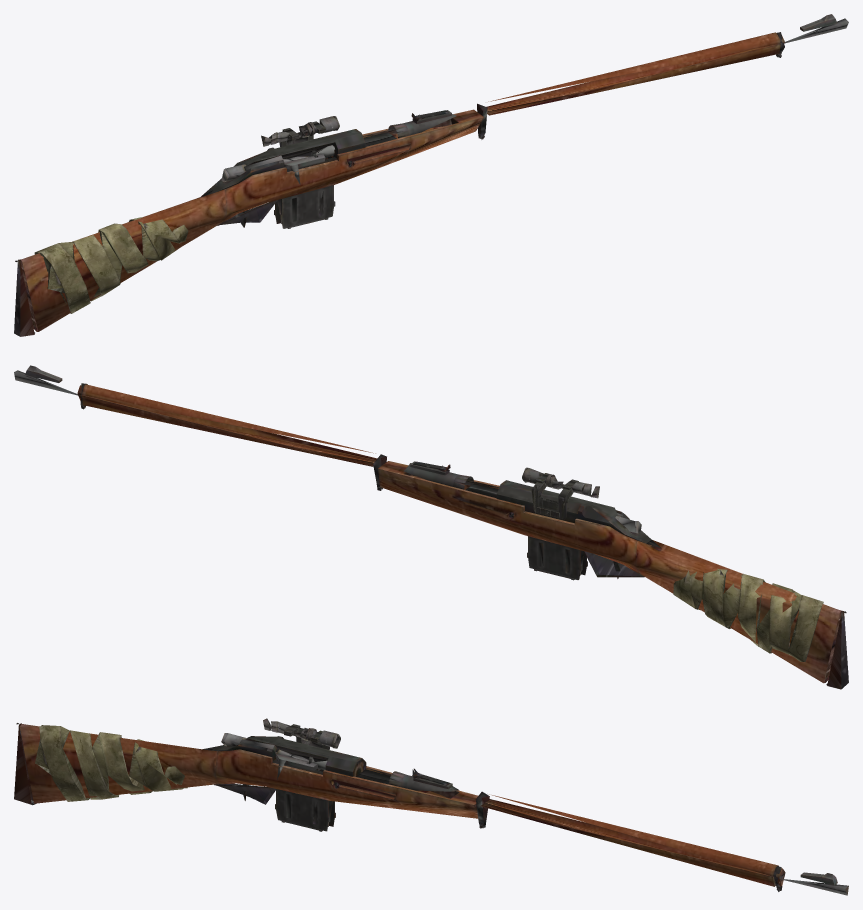
File: rifle_lo.glb
3 views of the same model, one above another, from view 1: azimuth 30°, elevation 25°; view 2: azimuth 150°, elevation 25°; view 3: azimuth 330°, elevation 25° (orthographic).
Visible parts, largest first — view 1: bolt_action_rifle_7_62, bolt_action_rifle_7_62_wrap, bolt_action_rifle_7_62_scope, bolt_action_rifle_7_62_bolt_a; view 2: bolt_action_rifle_7_62, bolt_action_rifle_7_62_wrap, bolt_action_rifle_7_62_scope; view 3: bolt_action_rifle_7_62, bolt_action_rifle_7_62_wrap, bolt_action_rifle_7_62_scope, bolt_action_rifle_7_62_bolt_a, bolt_action_rifle_7_62_bolt_b.
Boxes of the visible parts, <box> form: bolt_action_rifle_7_62: <box>14,14,848,336</box>; bolt_action_rifle_7_62_wrap: <box>34,217,188,313</box>; bolt_action_rifle_7_62_scope: <box>261,116,339,147</box>; bolt_action_rifle_7_62_bolt_a: <box>283,145,334,184</box>; bolt_action_rifle_7_62: <box>14,365,848,689</box>; bolt_action_rifle_7_62_wrap: <box>673,568,823,661</box>; bolt_action_rifle_7_62_scope: <box>522,467,599,519</box>; bolt_action_rifle_7_62: <box>14,723,848,895</box>; bolt_action_rifle_7_62_wrap: <box>35,725,187,801</box>; bolt_action_rifle_7_62_scope: <box>263,718,340,749</box>; bolt_action_rifle_7_62_bolt_a: <box>275,749,327,779</box>; bolt_action_rifle_7_62_bolt_b: <box>221,733,320,770</box>.
Size of the model in its own units: 1.22 by 0.2025 by 0.0569.
2 materials, 2 textured.
